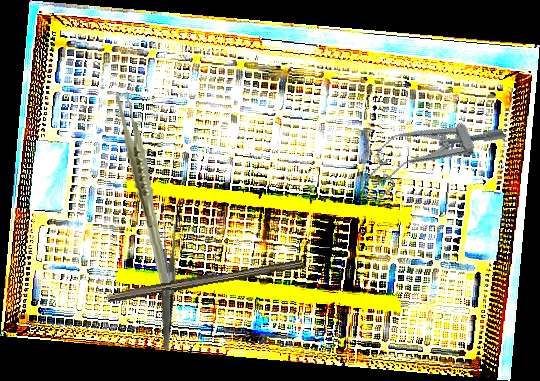Dressing Forceps: (123, 220, 210, 351)
Scalpel Handle: (106, 253, 304, 306)
Speculum: (347, 96, 511, 207)
Tissue Forceps: (115, 90, 171, 285)
